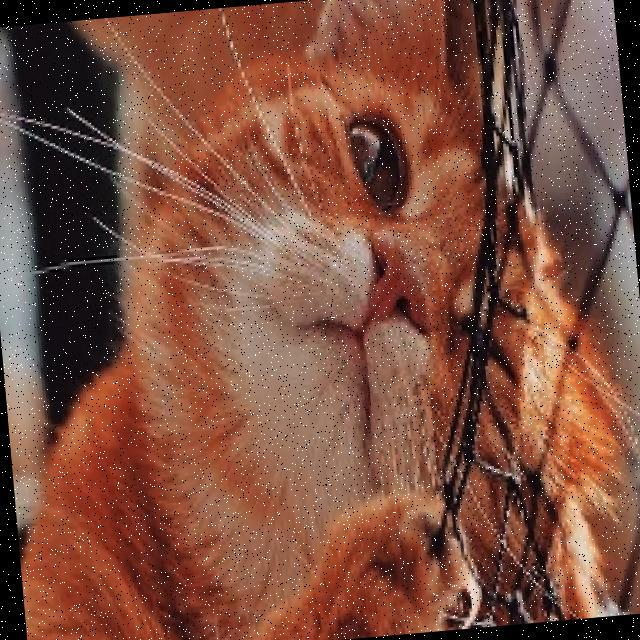Happy: (171, 58, 552, 544)
